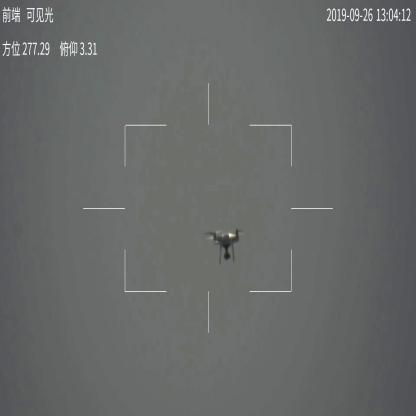uav: (202, 229, 246, 264)
